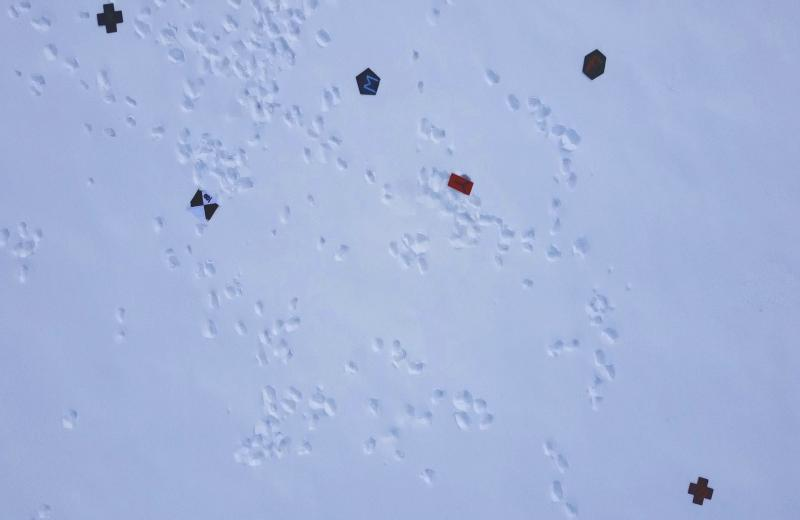Cross: (94, 0, 126, 38), (686, 472, 714, 508)
Hexagon: (578, 47, 608, 84)
Pentagon: (353, 64, 382, 99)
Rectangle: (446, 170, 479, 200)
